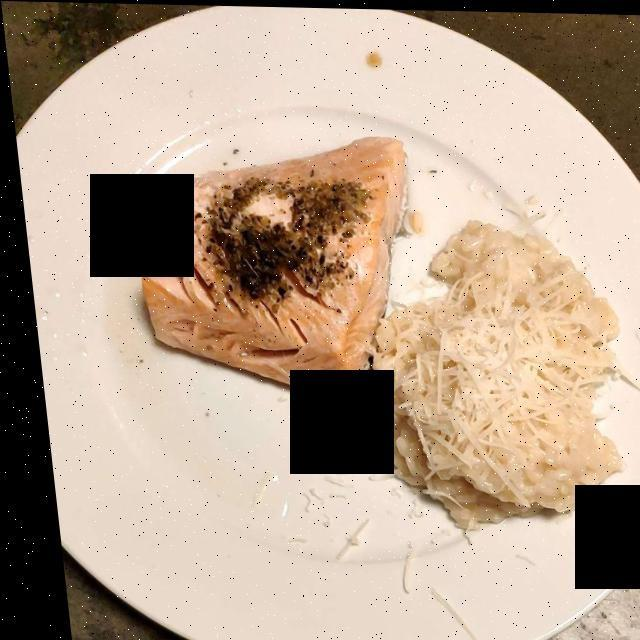cheese: (391, 265, 591, 514)
risotto: (340, 211, 615, 536)
salmon: (136, 135, 404, 397)
